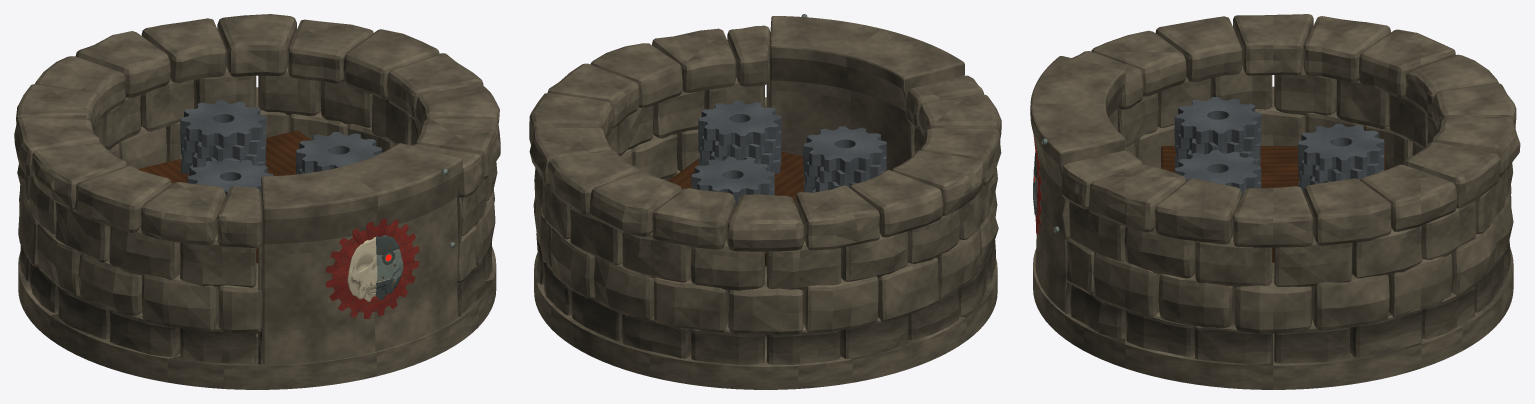
Rendered from filtered-cache-iron-gear-wheel-v01.glb.
3 renders of one model, left to right at view 1: azimuth 30°, elevation 25°; view 2: azimuth 150°, elevation 25°; view 3: azimuth 270°, elevation 25°, orthographic. The views are drawn at different scales.
Visible parts, largest first — view 1: Grounded carved circuit receiving tablet, Continuous grounded rubble footing, Hand-laid course 3 stone 10.0, Hand-laid course 3 stone 02.0, Hand-laid course 3 stone 09.0, Cache centered emblem | Mars emblem | twenty tooth cog surro, Hand-laid course 3 stone 03.0, Hand-laid course 3 stone 01.0, Hand-laid course 1 stone 10.0, Hand-laid course 3 stone 00.0, Hand-laid course 3 stone 08.0, Hand-laid course 3 stone 04.0 (+43 smaller); view 2: Grounded carved circuit receiving tablet, Continuous grounded rubble footing, Hand-laid course 3 stone 06.0, Hand-laid course 3 stone 04.0, Hand-laid course 3 stone 05.0, Hand-laid course 3 stone 07.0, Hand-laid course 3 stone 03.0, Hand-laid course 3 stone 15.0, Hand-laid course 1 stone 06.0, Hand-laid course 1 stone 05.0, Hand-laid course 1 stone 04.0, Hand-laid course 3 stone 16.0 (+44 smaller); view 3: Continuous grounded rubble footing, Grounded carved circuit receiving tablet, Hand-laid course 3 stone 00.0, Hand-laid course 3 stone 17.0, Hand-laid course 3 stone 16.0, Hand-laid course 3 stone 15.0, Hand-laid course 3 stone 08.0, Hand-laid course 3 stone 01.0, Hand-laid course 3 stone 07.0, Hand-laid course 3 stone 09.0, Hand-laid course 3 stone 06.0, Hand-laid course 1 stone 17.0 (+44 smaller).
Part boxes in pixels (left/top/right/bottom): Grounded carved circuit receiving tablet: left=261, top=143, right=462, bottom=364; Continuous grounded rubble footing: left=18, top=247, right=496, bottom=389; Hand-laid course 3 stone 10.0: left=141, top=182, right=226, bottom=245; Hand-laid course 3 stone 02.0: left=217, top=14, right=296, bottom=76; Hand-laid course 3 stone 09.0: left=75, top=166, right=171, bottom=232; Cache centered emblem | Mars emblem | twenty tooth cog surro: left=325, top=219, right=419, bottom=318; Hand-laid course 3 stone 03.0: left=141, top=18, right=226, bottom=82; Hand-laid course 3 stone 01.0: left=288, top=19, right=373, bottom=83; Hand-laid course 1 stone 10.0: left=141, top=274, right=218, bottom=331; Hand-laid course 3 stone 00.0: left=343, top=29, right=439, bottom=99; Hand-laid course 3 stone 08.0: left=31, top=143, right=126, bottom=210; Hand-laid course 3 stone 04.0: left=76, top=31, right=170, bottom=97; Grounded carved circuit receiving tablet: left=769, top=16, right=964, bottom=170; Continuous grounded rubble footing: left=534, top=253, right=997, bottom=389; Hand-laid course 3 stone 06.0: left=795, top=185, right=879, bottom=250; Hand-laid course 3 stone 04.0: left=652, top=188, right=735, bottom=249; Hand-laid course 3 stone 05.0: left=727, top=194, right=804, bottom=251; Hand-laid course 3 stone 07.0: left=849, top=170, right=943, bottom=237; Hand-laid course 3 stone 03.0: left=589, top=171, right=681, bottom=236; Hand-laid course 3 stone 15.0: left=652, top=28, right=735, bottom=92; Hand-laid course 1 stone 06.0: left=802, top=276, right=878, bottom=332; Hand-laid course 1 stone 05.0: left=728, top=266, right=803, bottom=335; Hand-laid course 1 stone 04.0: left=654, top=277, right=728, bottom=332; Hand-laid course 3 stone 16.0: left=590, top=43, right=682, bottom=108; Continuous grounded rubble footing: left=1033, top=249, right=1513, bottom=389; Grounded carved circuit receiving tablet: left=1030, top=56, right=1125, bottom=311; Hand-laid course 3 stone 00.0: left=1304, top=178, right=1391, bottom=245; Hand-laid course 3 stone 17.0: left=1233, top=186, right=1313, bottom=247; Hand-laid course 3 stone 16.0: left=1155, top=178, right=1241, bottom=244; Hand-laid course 3 stone 15.0: left=1088, top=164, right=1186, bottom=232; Hand-laid course 3 stone 08.0: left=1233, top=14, right=1313, bottom=75; Hand-laid course 3 stone 01.0: left=1360, top=164, right=1457, bottom=231; Hand-laid course 3 stone 07.0: left=1304, top=16, right=1390, bottom=82; Hand-laid course 3 stone 09.0: left=1155, top=16, right=1242, bottom=82; Hand-laid course 3 stone 06.0: left=1359, top=29, right=1455, bottom=98; Hand-laid course 1 stone 17.0: left=1234, top=262, right=1311, bottom=333.
Size of the model in its own units: 1.96 by 0.8159 by 1.95.
13 materials, 12 textured.
